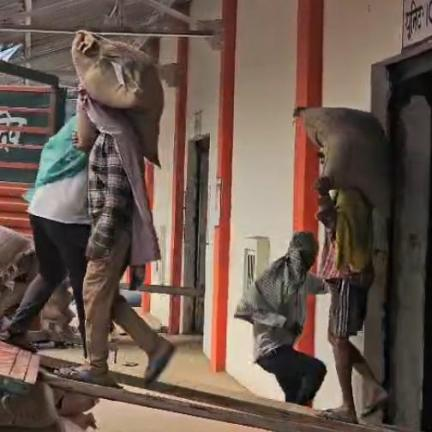Zone-Counting: (59, 30, 174, 386), (297, 107, 389, 422)
